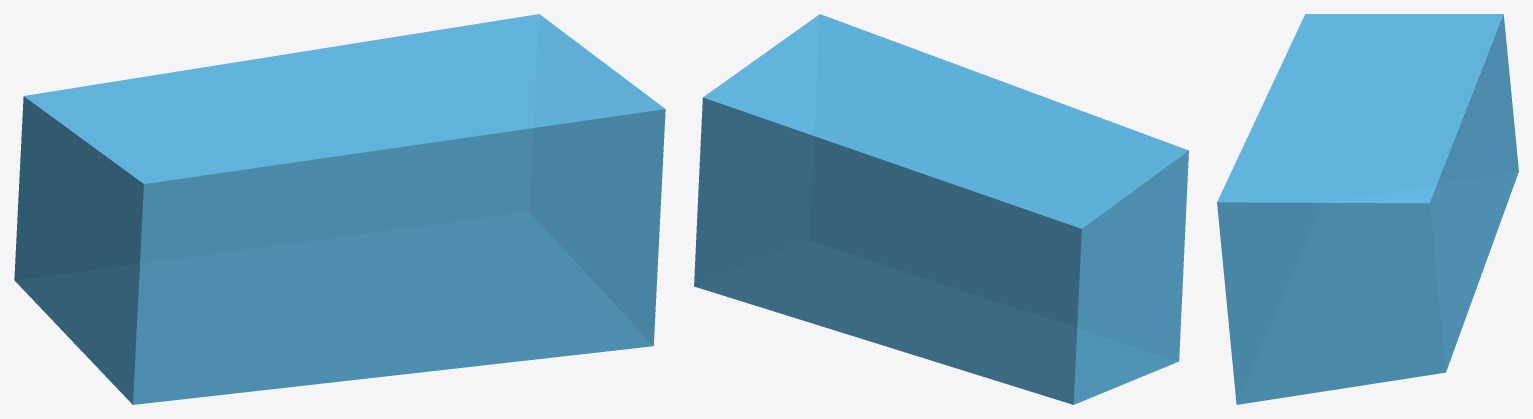
The model's file is Event_421556567_HErechit_59.fbx.
The picture shows the model from 3 angles, left to right: view 1: azimuth 30°, elevation 25°; view 2: azimuth 150°, elevation 25°; view 3: azimuth 270°, elevation 25°; orthographic projection. The views are drawn at different scales.
Visible parts, largest first — view 1: Model; view 2: Model; view 3: Model.
Part boxes in pixels (bbox=[...]): Model: bbox=[14, 14, 665, 404]; Model: bbox=[694, 14, 1188, 404]; Model: bbox=[1217, 14, 1518, 404].
Bounding box in the file's own units: 0.82 × 0.4091 × 0.5524.
